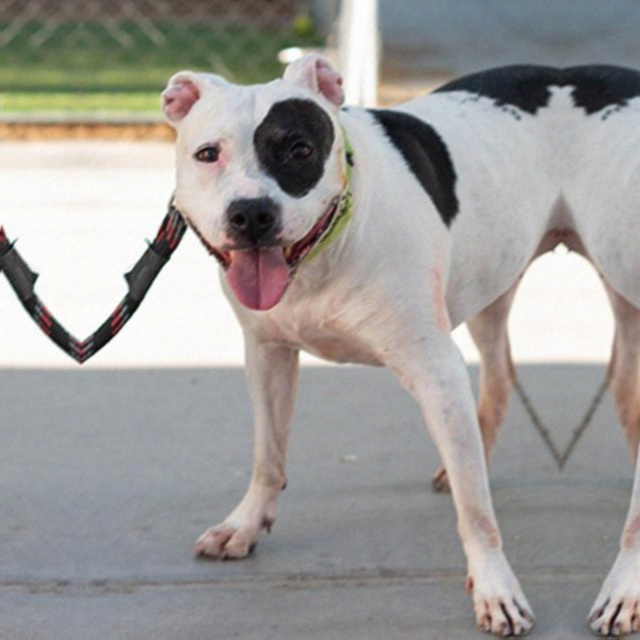dog: (80, 22, 560, 640), (0, 22, 80, 640), (561, 22, 640, 640)
